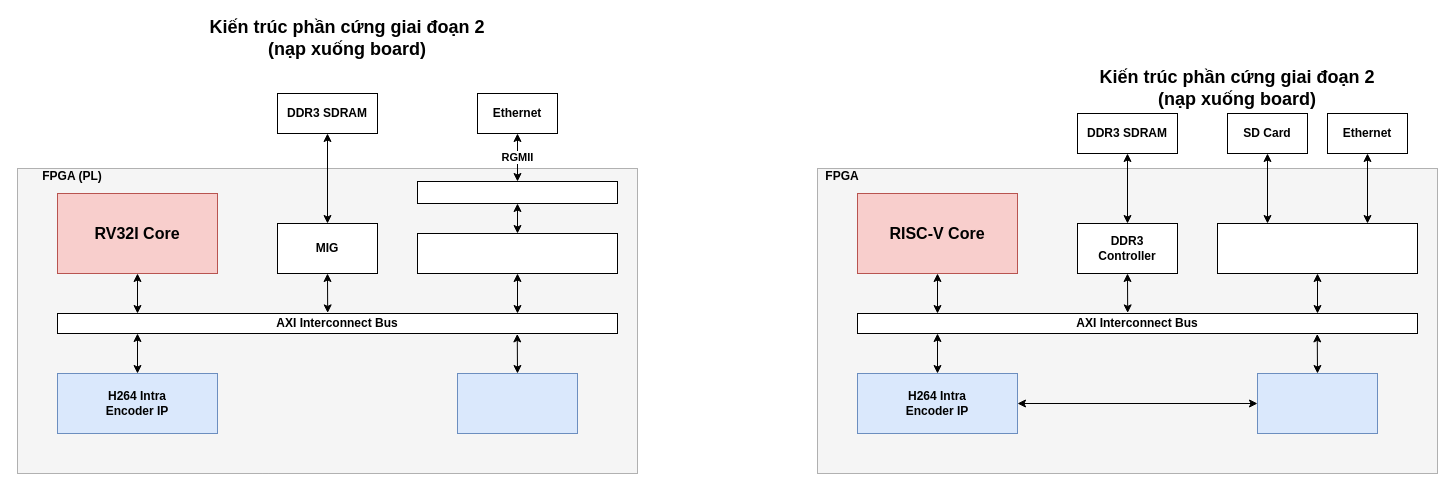
This 1455x491 diagram has some shape labels left out. The shapes that lost their labels are listed below. From the top down, each one's centre as x and y in pixels, then its label:
At (517,192): "MAC IP".
At (517,253): "UDP PARSER UDP PACKET BUILDER".
At (1317,248): "IO Peripheral".
At (517,403): "DMA".
At (1317,403): "Video DMA".
